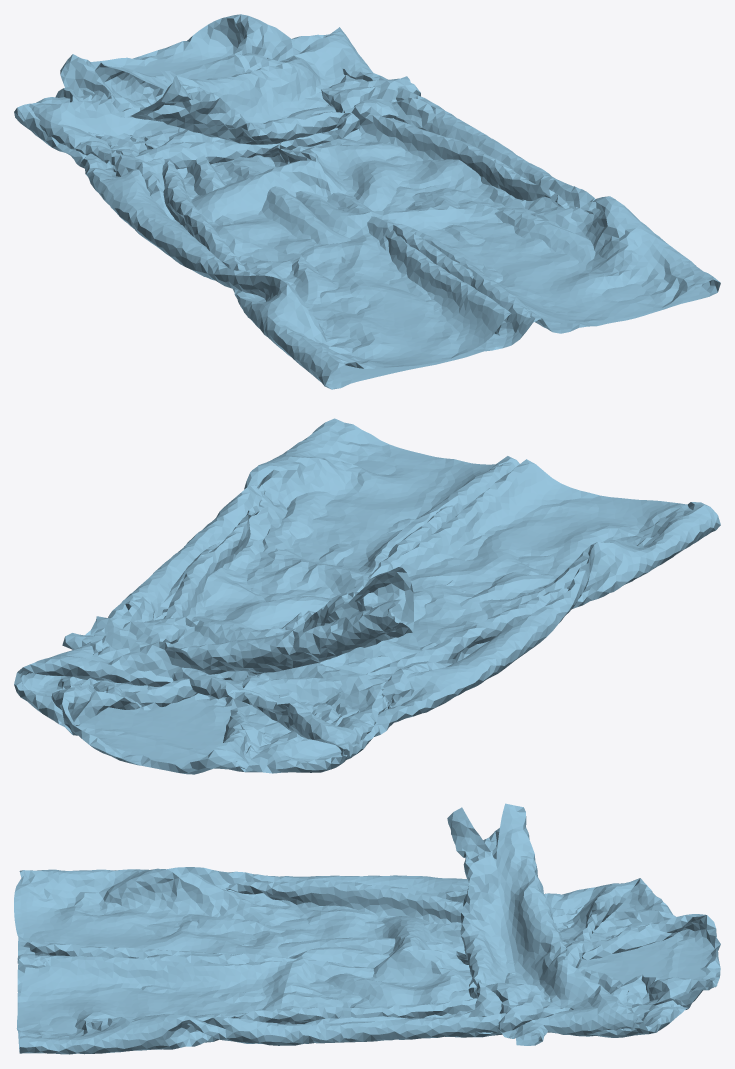
The model's file is frame_19.glb.
3 views of the same model, one above another, from view 1: azimuth 30°, elevation 25°; view 2: azimuth 150°, elevation 25°; view 3: azimuth 270°, elevation 25° (orthographic). The views are drawn at different scales.
Parts seen in each view (by area): view 1: frame_19.obj; view 2: frame_19.obj; view 3: frame_19.obj.
Part boxes in pixels (x1=…): frame_19.obj: x1=14, y1=14, x2=720, y2=389; frame_19.obj: x1=14, y1=418, x2=720, y2=774; frame_19.obj: x1=14, y1=803, x2=720, y2=1054.
Size of the model in its own units: 0.9615 by 0.2927 by 1.65.
